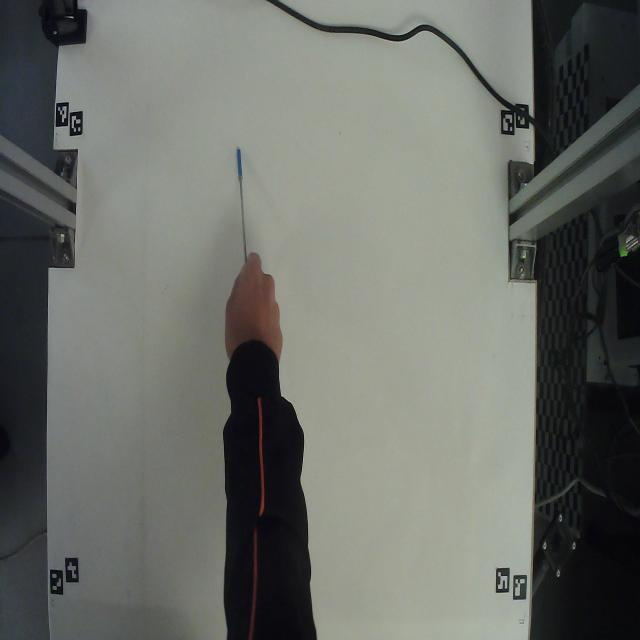Pres: (227, 132, 263, 268)
